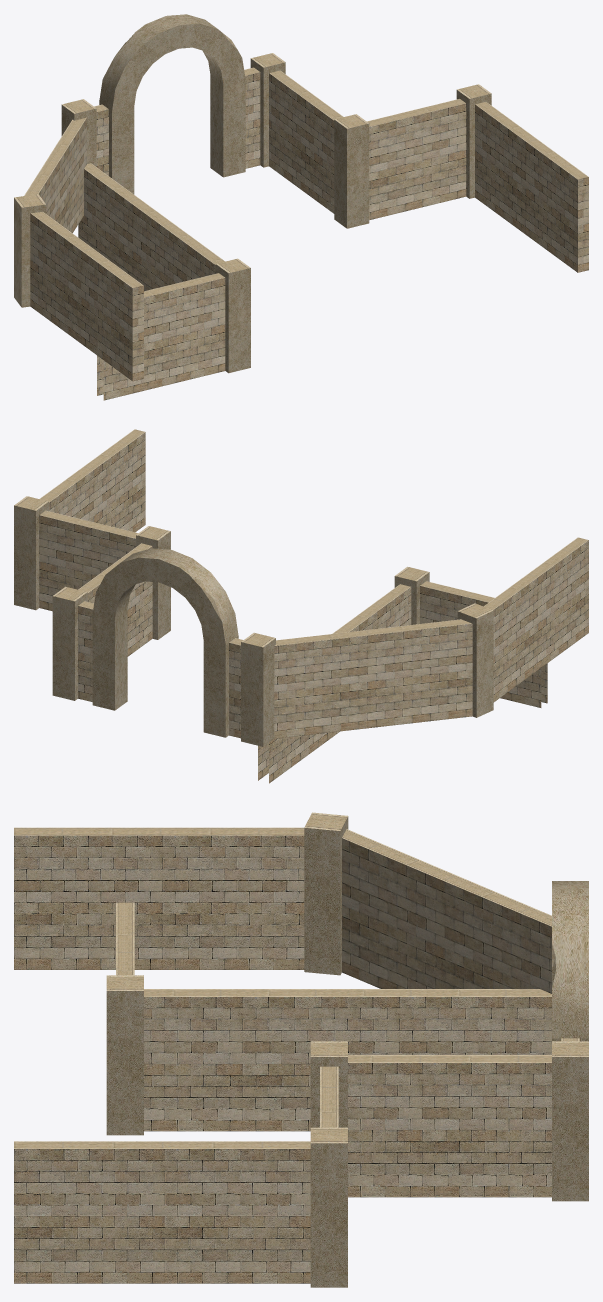
Rendered from poi_nboo_corral_half_32x32_s01_l0.fbx.
3 views of the same model, one above another, from view 1: azimuth 30°, elevation 25°; view 2: azimuth 150°, elevation 25°; view 3: azimuth 270°, elevation 25° (orthographic). The views are drawn at different scales.
Parts seen in each view (by area): view 1: mesh_node; view 2: mesh_node; view 3: mesh_node.
Part boxes in pixels (x1,y1,x2,y2): mesh_node: (14,14,588,400); mesh_node: (14,429,588,783); mesh_node: (14,812,588,1287).
Size of the model in its own units: 21.1 by 9 by 15.5.
